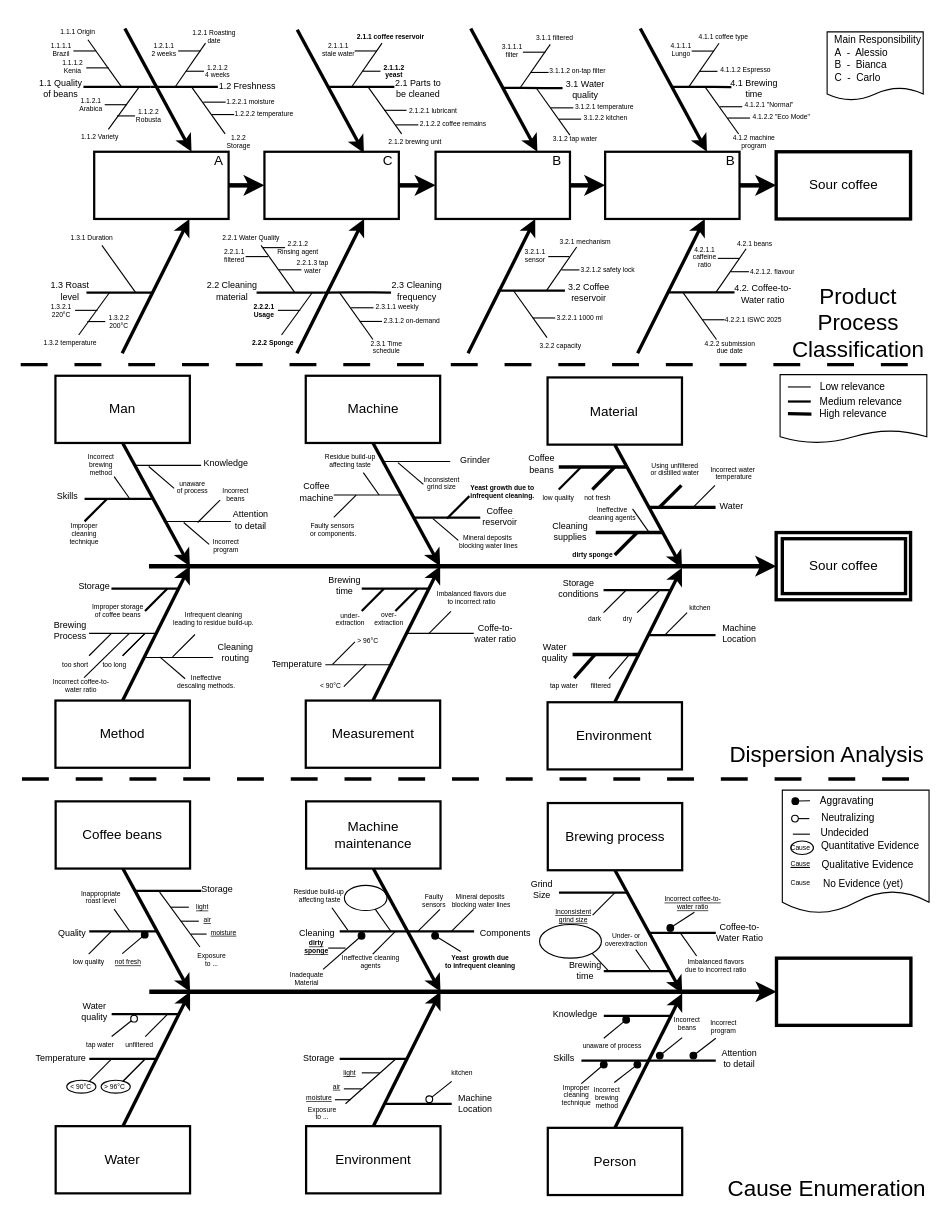
The diagram is 952 pixels wide and 1224 high, and some of its shapes have lost their labels. Here are the shapes that lost their labels. From the top down, the box of each, then its label:
(93, 150, 229, 220): 1. Buy beans
(263, 150, 399, 220): 2. Clean machine
(434, 150, 571, 220): 3. Refill Water
(603, 150, 740, 220): 4. Make coffee
(343, 884, 387, 911): Infrequent cleaning
(538, 923, 601, 958): Too short or too long brewing time
(774, 956, 912, 1026): Coffee machine outputs coffee with an unexpected sour after-taste
